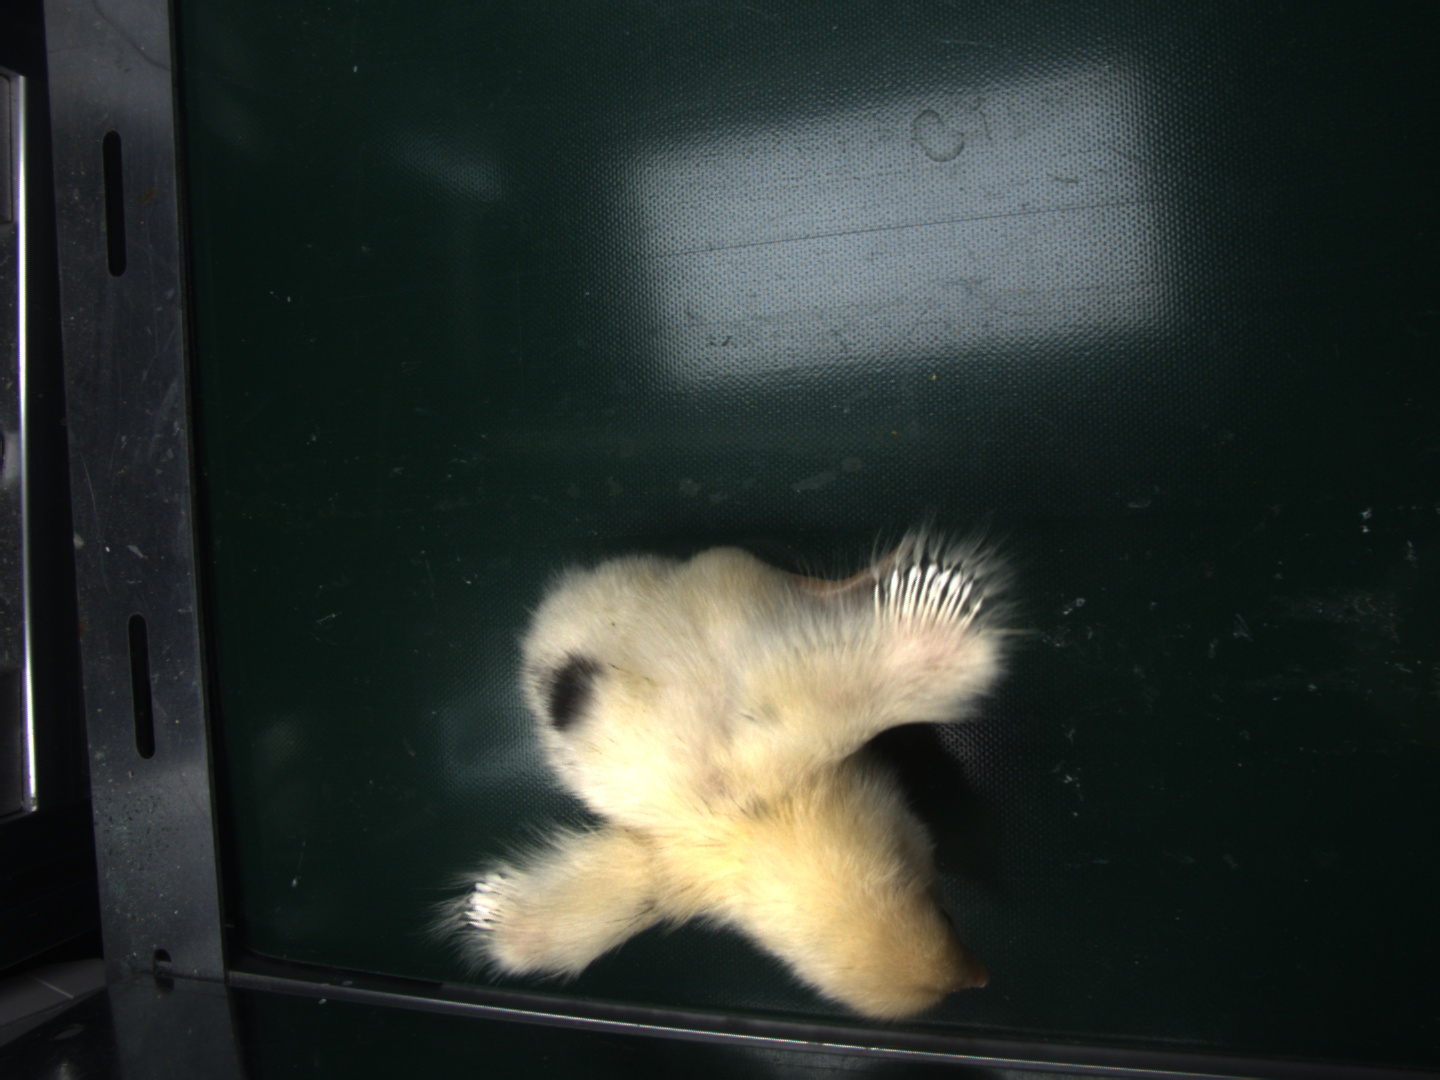male: (876, 560, 986, 628)
